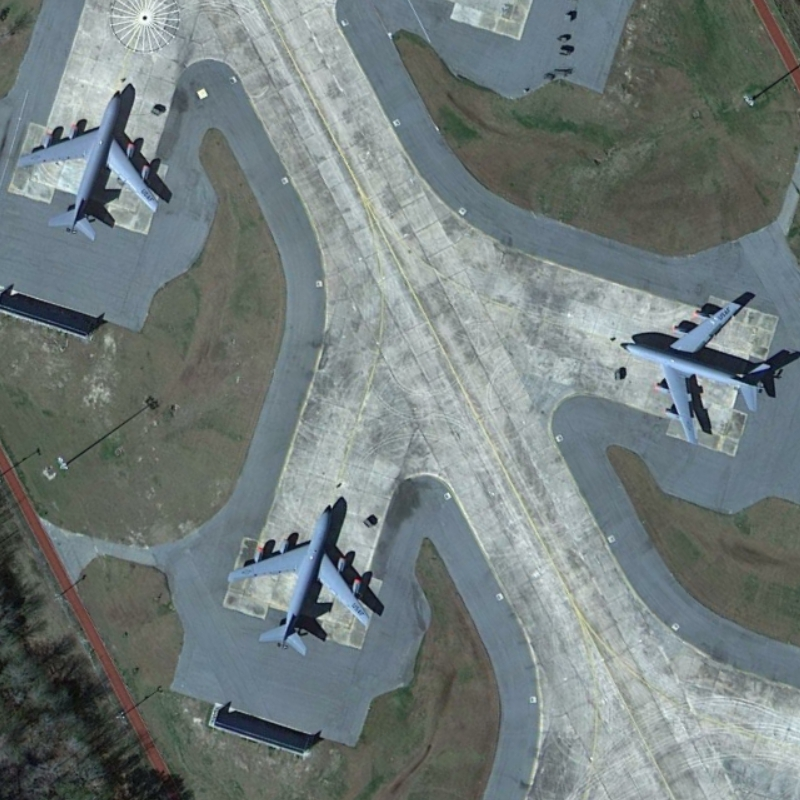A14: (15, 81, 170, 250), (223, 495, 380, 659), (612, 297, 776, 450)
